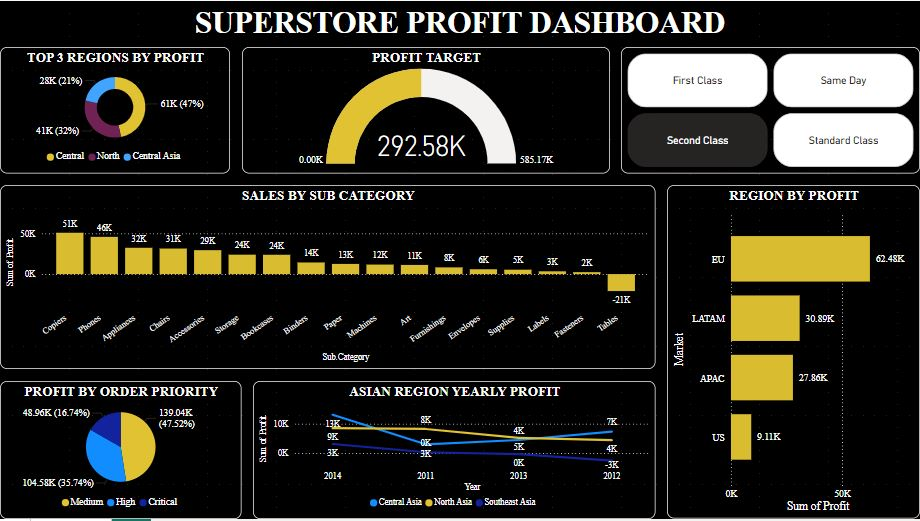

What the dashboard file says about the page in this screenshot:
{"tool":"powerbi","page":{"name":"PROFIT","canvas":[1280,720],"ordinal":1},"visuals":[{"type":"clusteredBarChart","title":"REGION BY PROFIT","fields":{"Category":["superstore.Market"],"Y":["Sum(superstore.Profit)"]},"box":[928,256,352,464],"z":0},{"type":"donutChart","title":"TOP 3 REGIONS BY PROFIT","fields":{"Category":["superstore.Region"],"Y":["Sum(superstore.Profit)"]},"box":[0,64,320,176],"z":1000},{"type":"pieChart","title":"PROFIT BY ORDER PRIORITY","fields":{"Y":["Sum(superstore.Profit)"],"Category":["superstore.Order.Priority"]},"box":[0,528,336,192],"z":2000},{"type":"lineChart","title":"ASIAN REGION YEARLY PROFIT","fields":{"Category":["superstore.Year"],"Series":["superstore.Region"],"Y":["Sum(superstore.Profit)"]},"box":[352,528,560,192],"z":3000},{"type":"gauge","title":"PROFIT TARGET","fields":{"Y":["Sum(superstore.Profit)"]},"box":[336,64,512,176],"z":4000},{"type":"advancedSlicerVisual","fields":{"Values":["superstore.Ship.Mode"]},"box":[864,64,416,176],"z":5000},{"type":"clusteredColumnChart","title":"SALES BY SUB CATEGORY","fields":{"Category":["superstore.Sub.Category"],"Y":["Sum(superstore.Profit)"]},"box":[0,256,912,256],"z":6000},{"type":"textbox","box":[0,0,1280,64],"z":7000}]}

Visuals, with their boxes in screenshot pixels (x1, y1, x2, y2), scaled from the page's 1280x720 canvas onto the 920x521 screenshot:
"REGION BY PROFIT" clusteredBarChart: bbox=(667, 185, 919, 520)
"TOP 3 REGIONS BY PROFIT" donutChart: bbox=(0, 46, 230, 174)
"PROFIT BY ORDER PRIORITY" pieChart: bbox=(0, 382, 242, 520)
"ASIAN REGION YEARLY PROFIT" lineChart: bbox=(253, 382, 656, 520)
"PROFIT TARGET" gauge: bbox=(242, 46, 610, 174)
advancedSlicerVisual - superstore.Ship.Mode: bbox=(621, 46, 919, 174)
"SALES BY SUB CATEGORY" clusteredColumnChart: bbox=(0, 185, 656, 370)
textbox: bbox=(0, 0, 919, 46)
